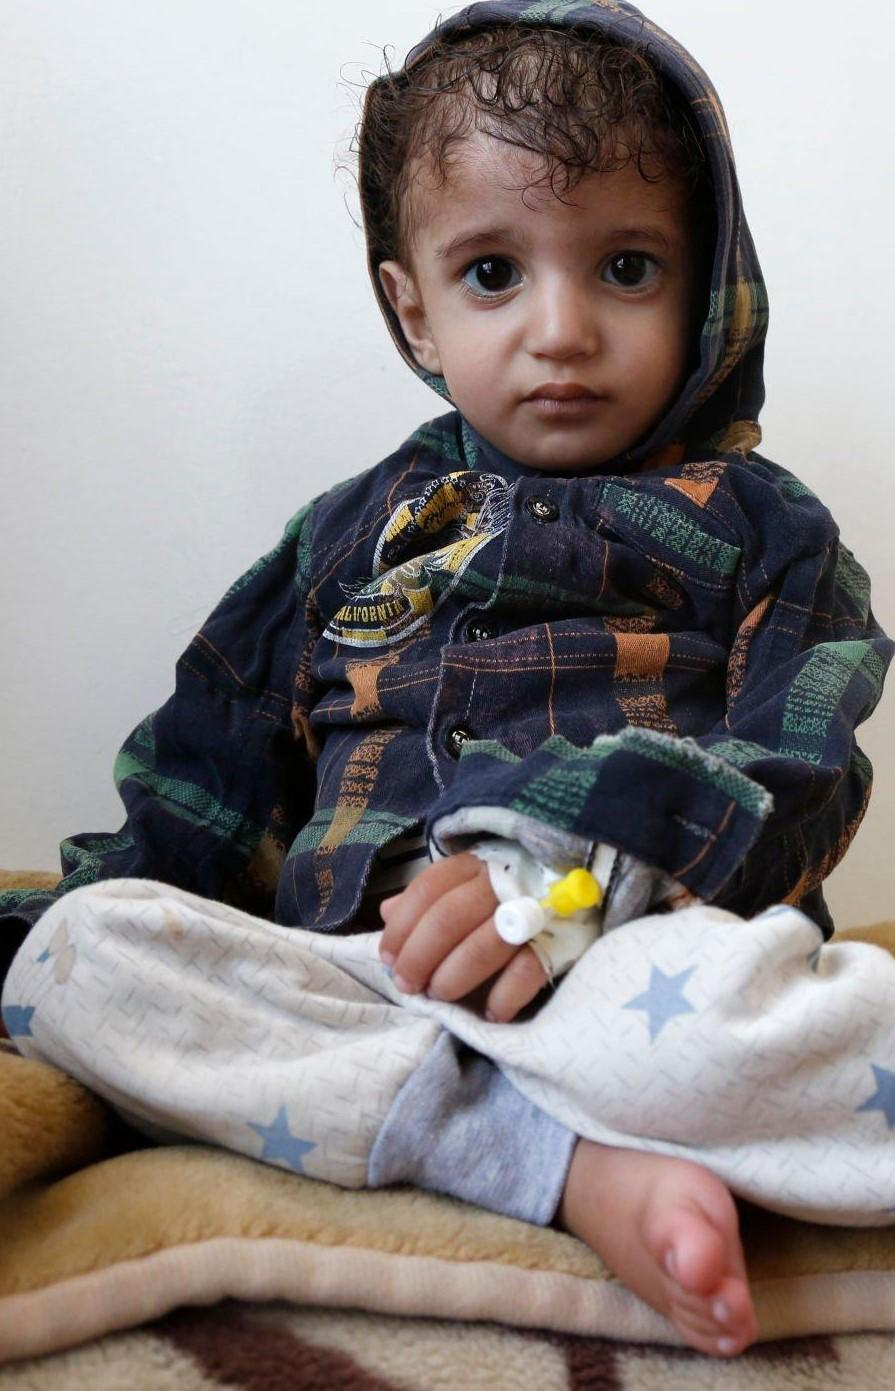Stunting: (377, 40, 760, 507)
